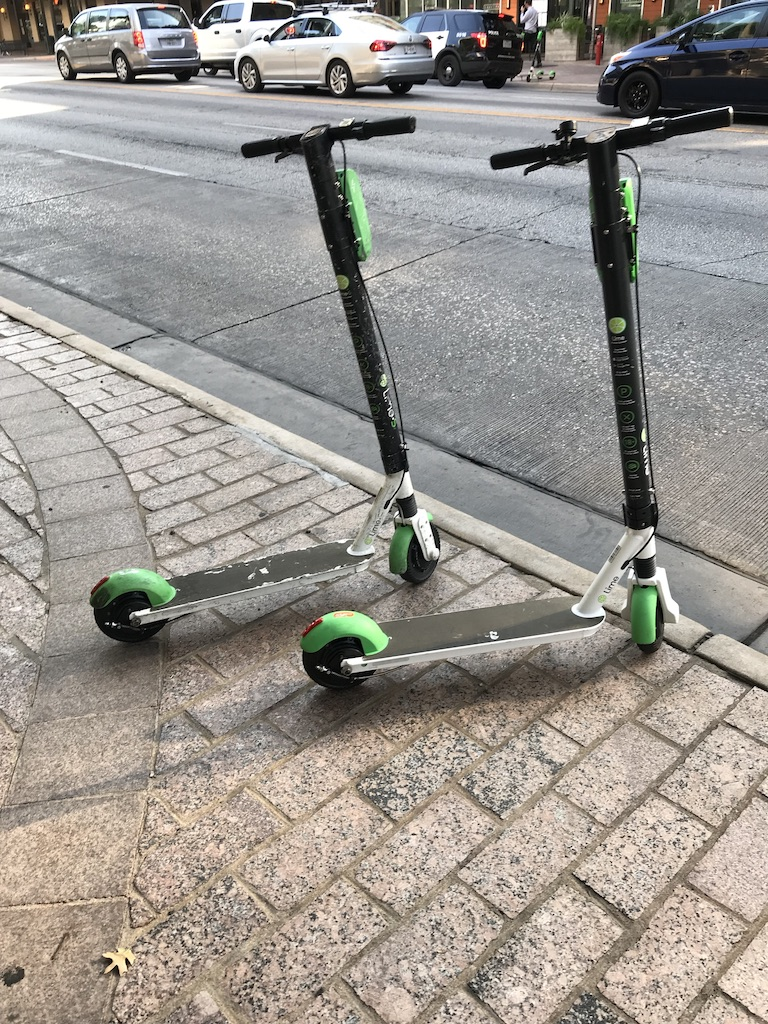scooter: (299, 106, 734, 695), (89, 115, 444, 646)
